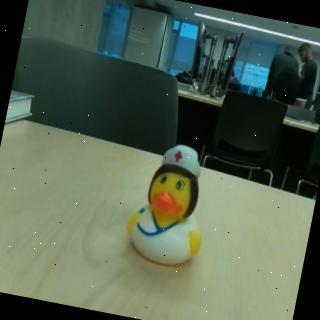duck_specialty: (120, 135, 221, 272)
